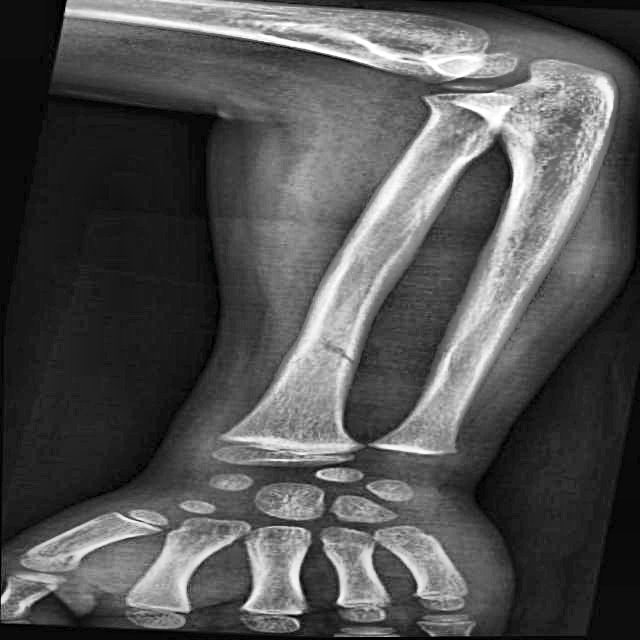Oblique Displaced: (260, 309, 399, 379)
